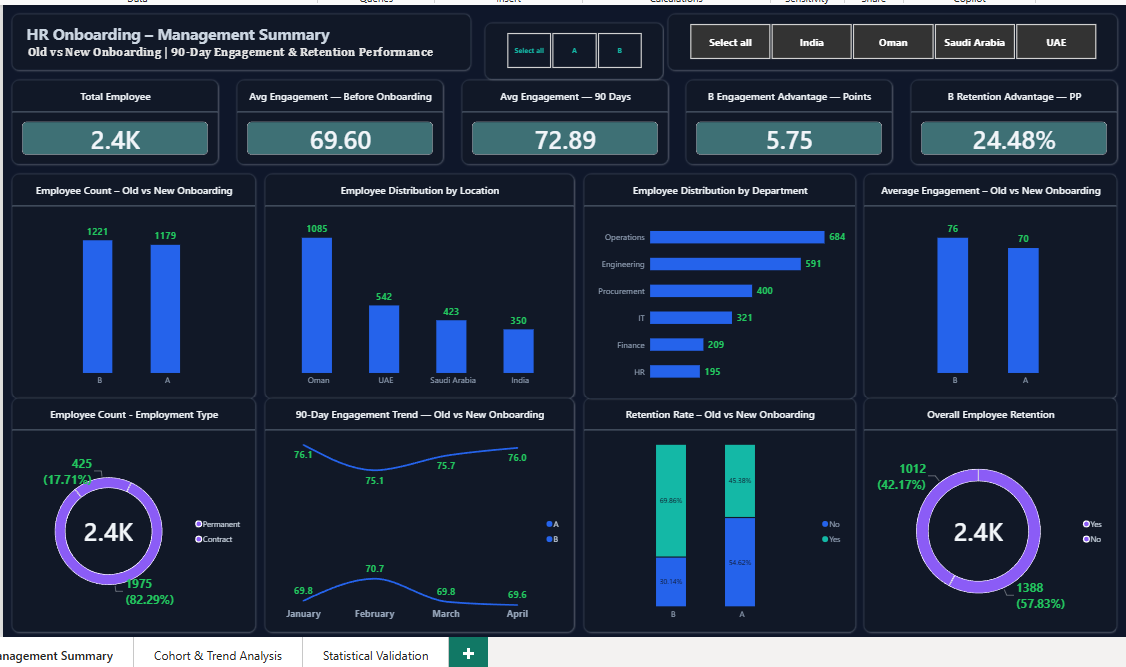

The page's visual inventory and layout, read from the dashboard file:
{"tool":"powerbi","page":{"name":"Management Summary","canvas":[1920,1080],"ordinal":0},"visuals":[{"type":"cardVisual","title":"Total Employee","fields":{"Data":["Count(Employee_Data.Employee_ID)"]},"box":[16,128,352,144],"z":0},{"type":"clusteredColumnChart","title":"Employee Count – Old vs New Onboarding","fields":{"Category":["Employee_Data.Onboarding_Group"],"Y":["CountNonNull(Employee_Data.Employee_ID)"]},"box":[16,288,416,384],"z":1000},{"type":"cardVisual","title":"Avg Engagement — Before Onboarding","fields":{"Data":["Avg(Employee_Data.Engagement_Before)"]},"box":[400,128,352,144],"z":2000},{"type":"cardVisual","title":"Avg Engagement — 90 Days","fields":{"Data":["Avg(Employee_Data.Engagement_90D)"]},"box":[784,128,352,144],"z":3000},{"type":"clusteredColumnChart","title":"Average Engagement – Old vs New Onboarding","fields":{"Category":["Employee_Data.Onboarding_Group"],"Y":["Avg(Employee_Data.Engagement_90D)"]},"box":[1472,288,432,384],"z":4000},{"type":"donutChart","title":"Overall Employee Retention","fields":{"Category":["Employee_Data.Retained_6M"],"Y":["CountNonNull(Employee_Data.Employee_ID)"]},"box":[1472,672,432,400],"z":5000},{"type":"hundredPercentStackedColumnChart","title":"Retention Rate – Old vs New Onboarding","fields":{"Category":["Employee_Data.Onboarding_Group"],"Series":["Employee_Data.Retained_6M"],"Y":["CountNonNull(Employee_Data.Employee_ID)"]},"box":[992,672,464,400],"z":6000},{"type":"clusteredBarChart","title":"Employee Distribution by Department","fields":{"Category":["Employee_Data.Department"],"Y":["CountNonNull(Employee_Data.Employee_ID)"]},"box":[992,288,464,384],"z":7000},{"type":"clusteredColumnChart","title":"Employee Distribution by Location","fields":{"Category":["Employee_Data.Location"],"Y":["CountNonNull(Employee_Data.Employee_ID)"]},"box":[448,288,528,384],"z":8000},{"type":"donutChart","title":"Employee Count - Employment Type","fields":{"Category":["Employee_Data.Employment_Type"],"Y":["CountNonNull(Employee_Data.Employee_ID)"]},"box":[16,672,416,400],"z":9000},{"type":"slicer","fields":{"Values":["Employee_Data.Location"]},"box":[1136,16,768,96],"z":10000},{"type":"slicer","fields":{"Values":["Employee_Data.Onboarding_Group"]},"box":[823.7,30.8,304,96],"z":11000},{"type":"cardVisual","title":"B Engagement Advantage — Points","fields":{"Data":["Employee_Data.B Engagement Advantage"]},"box":[1168,128,352,144],"z":12000},{"type":"lineChart","title":"90-Day Engagement Trend — Old vs New Onboarding","fields":{"Category":["Employee_Data.Cohort_Month.Variation.Date Hierarchy.Month"],"Series":["Employee_Data.Onboarding_Group"],"Y":["Avg(Employee_Data.Engagement_90D)"]},"box":[448,672,528,400],"z":13000},{"type":"cardVisual","title":"B Retention Advantage — PP","fields":{"Data":["Employee_Data.B Retention Advantage"]},"box":[1552,128,352,144],"z":15000},{"type":"textbox","box":[16,16,784,96],"z":16000}]}

Visuals, with their boxes on the page's 1920x1080 design canvas (x1, y1, x2, y2). These are canvas units, not pixel positions in the 1126x667 screenshot, which may show the page scaled, cropped or inside an application window:
"Total Employee" cardVisual: 16, 128, 368, 272
"Employee Count – Old vs New Onboarding" clusteredColumnChart: 16, 288, 432, 672
"Avg Engagement — Before Onboarding" cardVisual: 400, 128, 752, 272
"Avg Engagement — 90 Days" cardVisual: 784, 128, 1136, 272
"Average Engagement – Old vs New Onboarding" clusteredColumnChart: 1472, 288, 1904, 672
"Overall Employee Retention" donutChart: 1472, 672, 1904, 1072
"Retention Rate – Old vs New Onboarding" hundredPercentStackedColumnChart: 992, 672, 1456, 1072
"Employee Distribution by Department" clusteredBarChart: 992, 288, 1456, 672
"Employee Distribution by Location" clusteredColumnChart: 448, 288, 976, 672
"Employee Count - Employment Type" donutChart: 16, 672, 432, 1072
slicer - Employee_Data.Location: 1136, 16, 1904, 112
slicer - Employee_Data.Onboarding_Group: 824, 31, 1128, 127
"B Engagement Advantage — Points" cardVisual: 1168, 128, 1520, 272
"90-Day Engagement Trend — Old vs New Onboarding" lineChart: 448, 672, 976, 1072
"B Retention Advantage — PP" cardVisual: 1552, 128, 1904, 272
textbox: 16, 16, 800, 112
